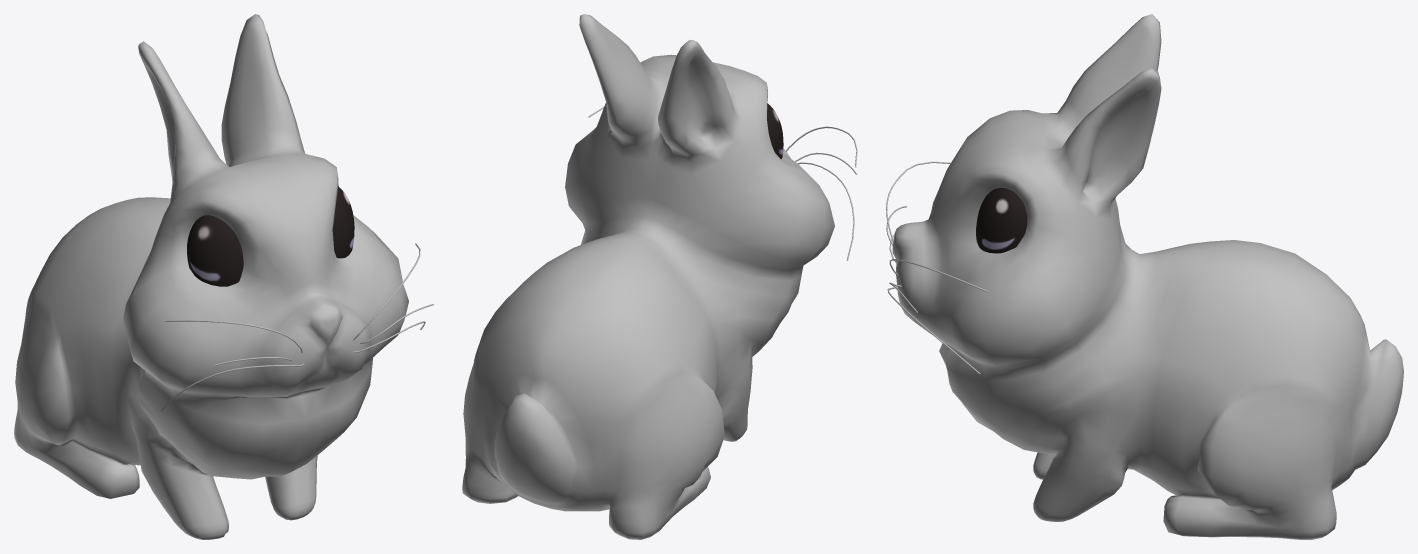
The model's file is Bunny_Combined.fbx.
3 renders of one model, left to right at view 1: azimuth 30°, elevation 25°; view 2: azimuth 150°, elevation 25°; view 3: azimuth 270°, elevation 25°, orthographic. The views are drawn at different scales.
Parts seen in each view (by area): view 1: Bunny_Geo, Bunny_Eye_R, Bunny_Eye_L; view 2: Bunny_Geo, Bunny_Eye_R; view 3: Bunny_Geo, Bunny_Eye_L.
Boxes of the visible parts, box(x1,y1,x2,y2) form: Bunny_Geo: box(14, 14, 408, 539); Bunny_Eye_R: box(187, 215, 243, 286); Bunny_Eye_L: box(332, 186, 354, 258); Bunny_Geo: box(462, 14, 834, 539); Bunny_Eye_R: box(767, 103, 783, 158); Bunny_Geo: box(892, 14, 1403, 539); Bunny_Eye_L: box(976, 188, 1027, 253).
Bounding box in the file's own units: 3.49 × 5.72 × 5.89.
